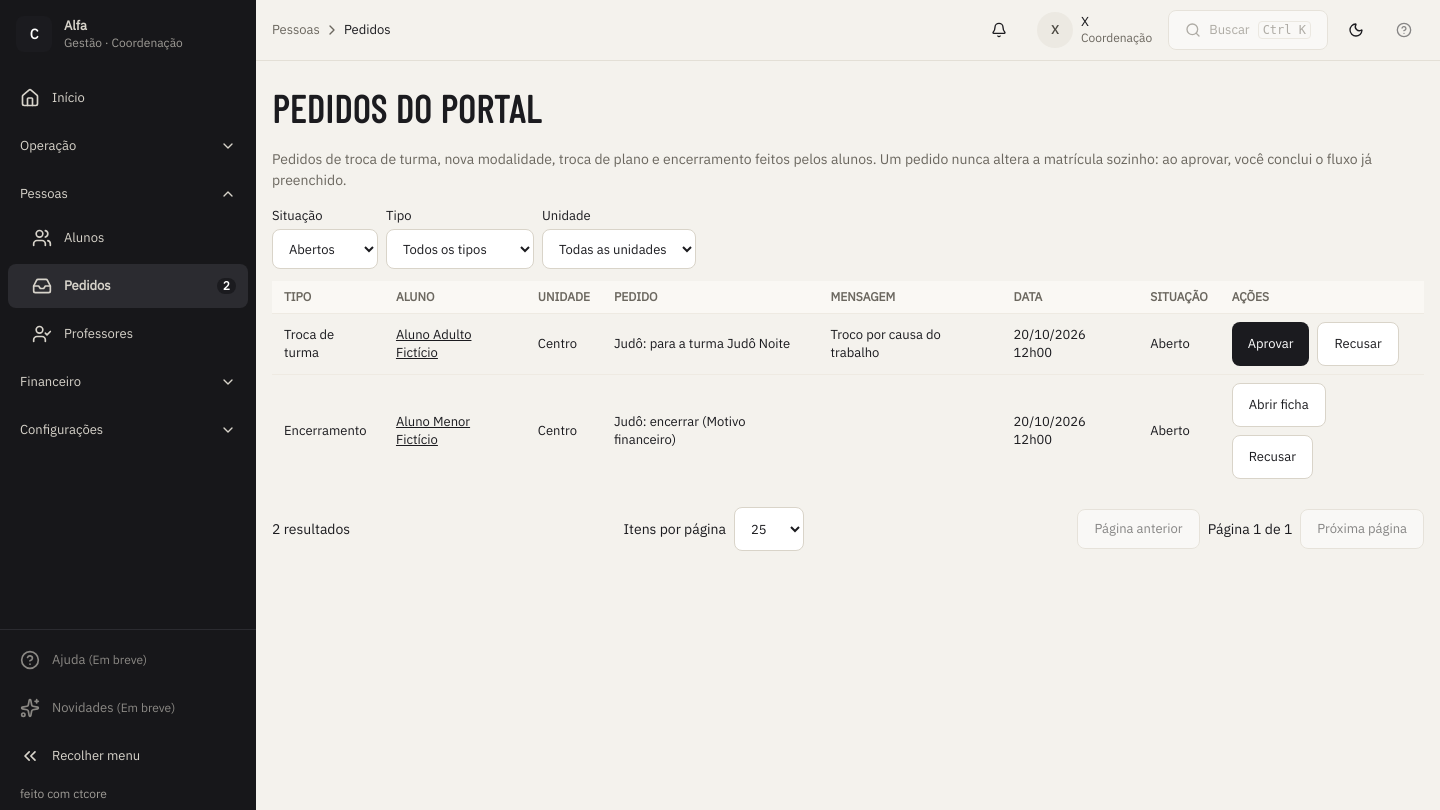
PortalRequestsPage (RF-MAT-04) › CA19: Aprovar marca o pedido e leva à ficha do aluno
The width and height of the screenshot is (1440, 810).
Click the button with aria-label "Aprovar pedido de Aluno Adulto Fictício" at coordinates (1271, 344), box [1232, 322, 1310, 366]
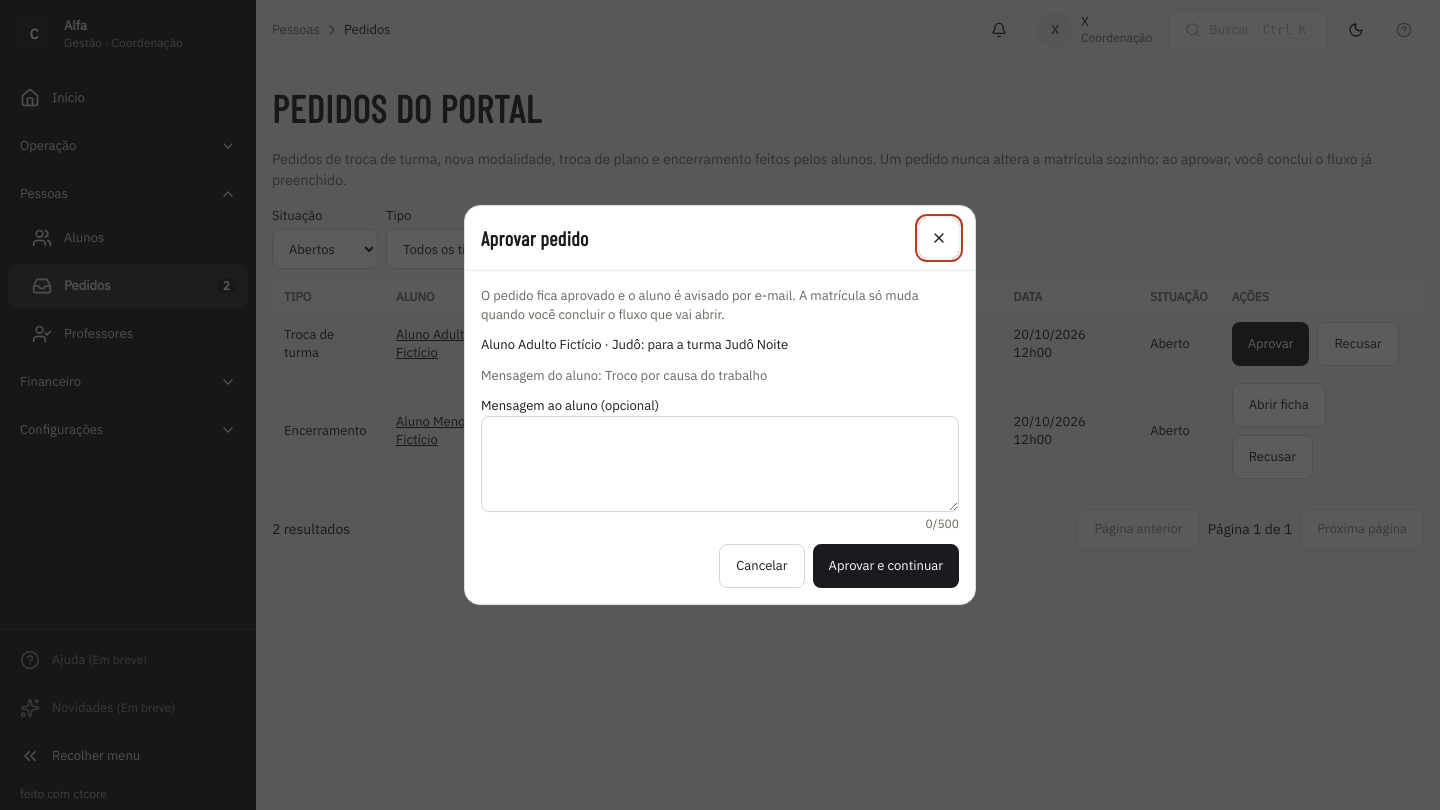
Type "Pode vir" into the text box labelled "Mensagem ao aluno (opcional)" at coordinates (720, 464), box [481, 416, 959, 512]
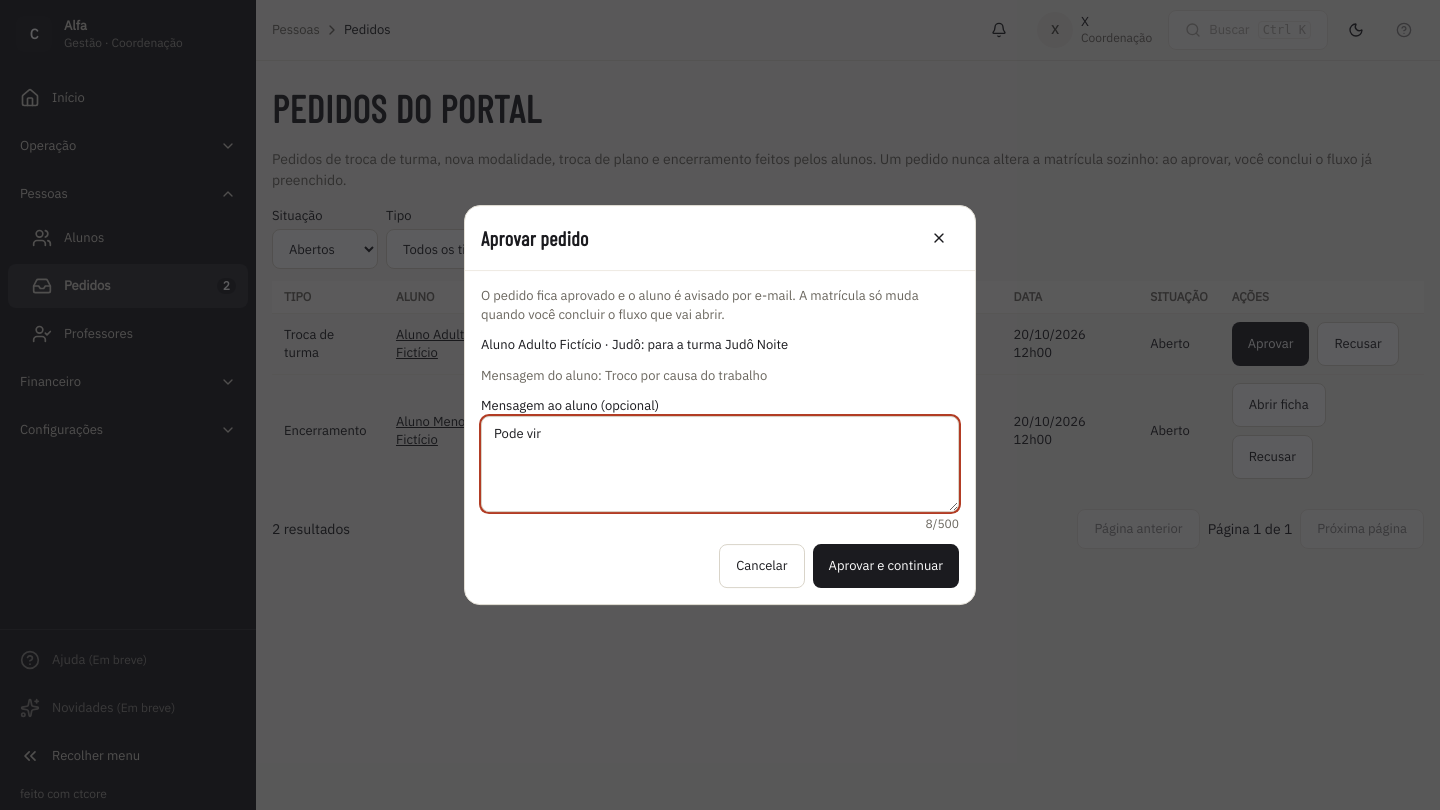
Click the button "Aprovar e continuar" at coordinates (886, 566), box [812, 544, 959, 588]
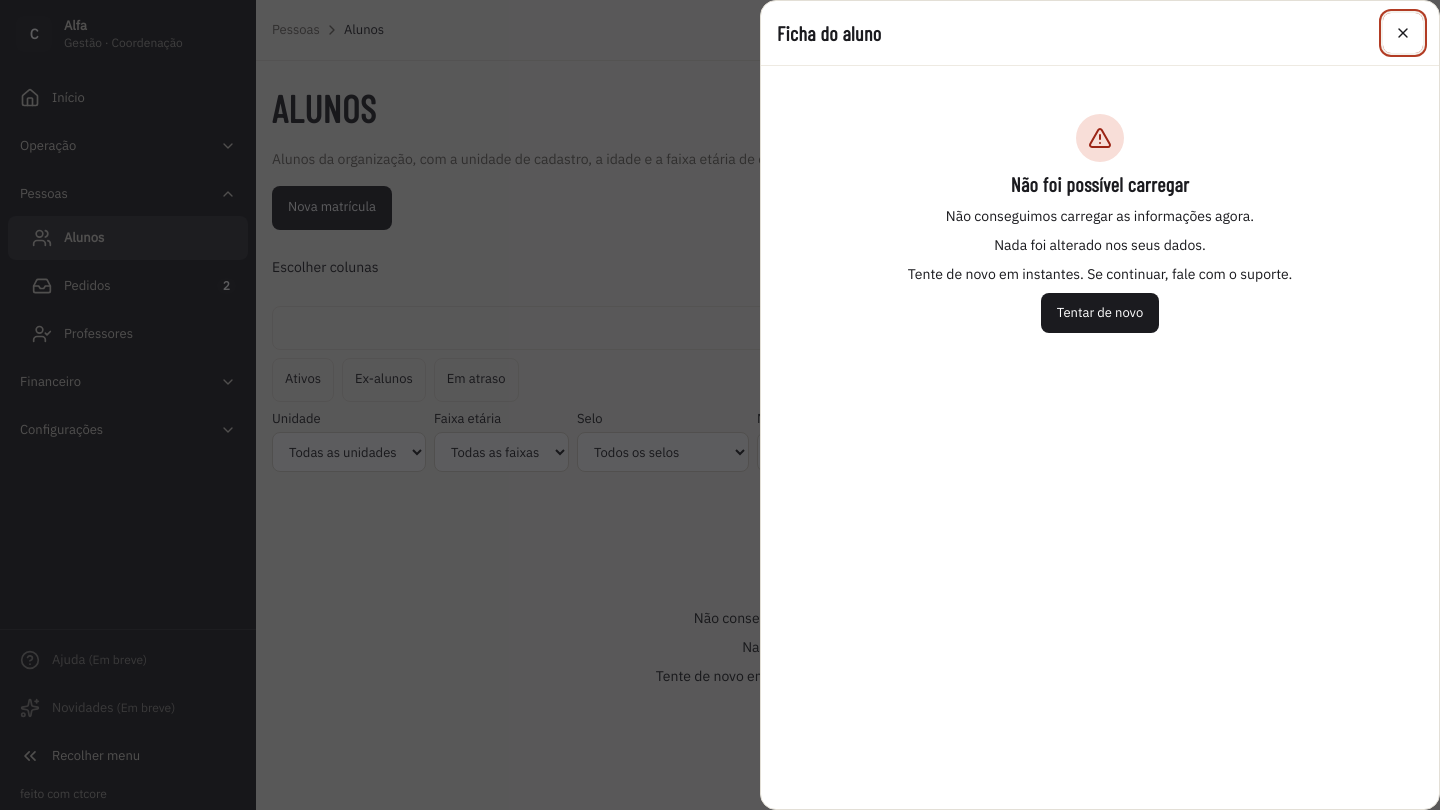
Expected: the heading "Pedidos do portal" is gone
